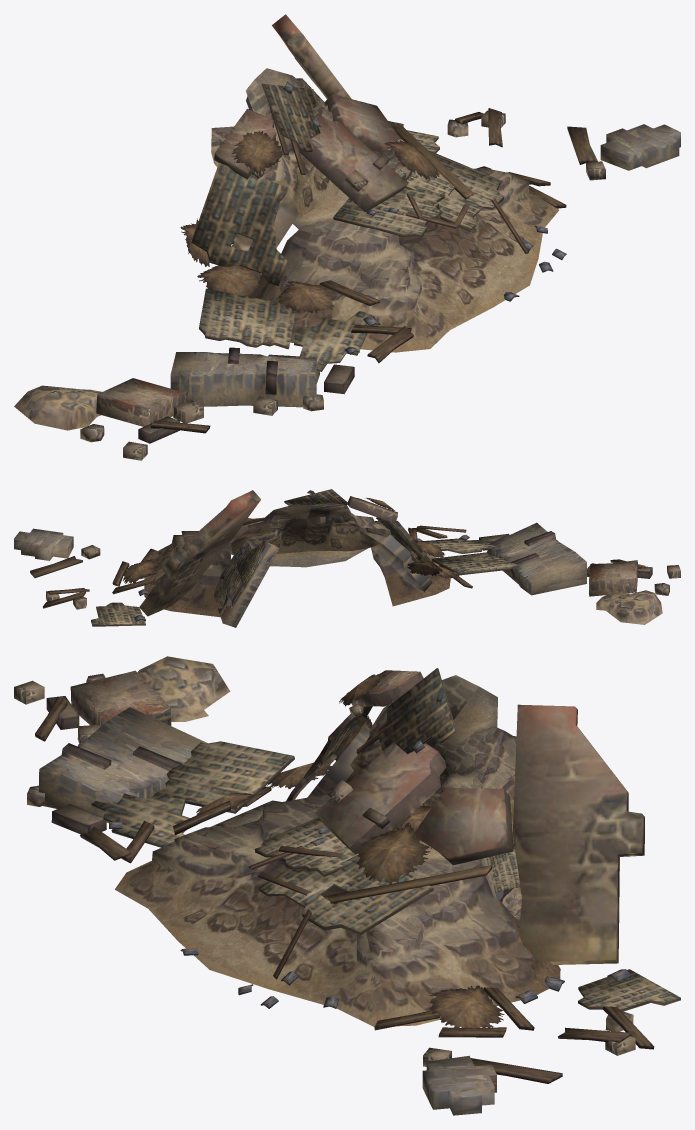
The model's file is FeiXuAll2.FBX.
3 renders of one model, top to bottom at view 1: azimuth 30°, elevation 25°; view 2: azimuth 150°, elevation 25°; view 3: azimuth 270°, elevation 25°, orthographic. The views are drawn at different scales.
Parts seen in each view (by area): view 1: FeiXuAll1; view 2: FeiXuAll1; view 3: FeiXuAll1.
Boxes of the visible parts, x1=… form: FeiXuAll1: x1=14, y1=14, x2=680, y2=460; FeiXuAll1: x1=14, y1=489, x2=680, y2=627; FeiXuAll1: x1=14, y1=656, x2=680, y2=1115.
Size of the model in its own units: 1008 by 234 by 643.
